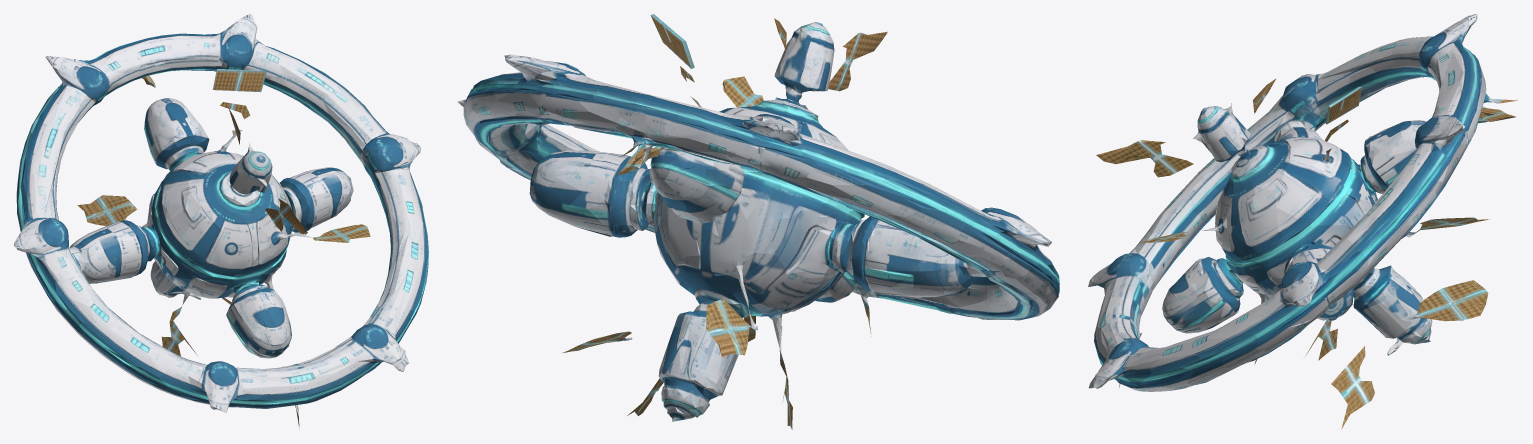
The model's file is station.glb.
The picture shows the model from 3 angles, left to right: view 1: azimuth 30°, elevation 25°; view 2: azimuth 150°, elevation 25°; view 3: azimuth 270°, elevation 25°; orthographic projection. The views are drawn at different scales.
Parts seen in each view (by area): view 1: output_unwrapped; view 2: output_unwrapped; view 3: output_unwrapped.
Boxes of the visible parts, <box> form: output_unwrapped: <box>14,14,428,429</box>; output_unwrapped: <box>457,14,1059,429</box>; output_unwrapped: <box>1088,14,1517,428</box>.
Bounding box in the file's own units: 1.84 × 1.22 × 1.47.
1 material, 1 textured.
